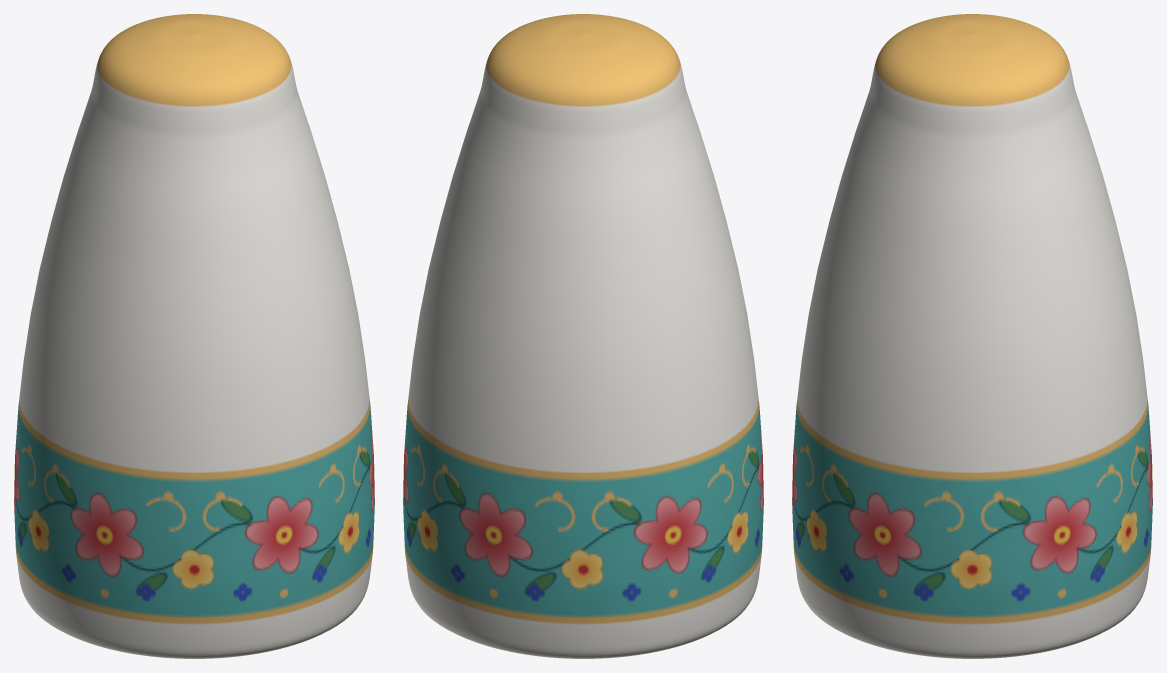
File: imperial-shaker.glb
The picture shows the model from 3 angles, left to right: view 1: azimuth 30°, elevation 25°; view 2: azimuth 150°, elevation 25°; view 3: azimuth 270°, elevation 25°; orthographic projection.
Parts seen in each view (by area): view 1: shaker; view 2: shaker; view 3: shaker.
Part boxes in pixels (bbox=[...]): shaker: bbox=[14, 14, 374, 658]; shaker: bbox=[403, 14, 763, 658]; shaker: bbox=[792, 14, 1152, 658].
Bounding box in the file's own units: 0.0468 × 0.0793 × 0.0468.
Materials: 1 (1 with a texture image).
